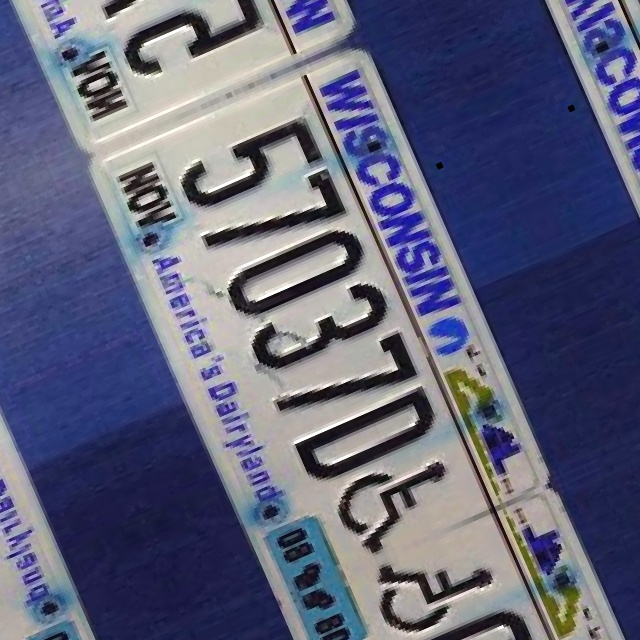ISA: (326, 443, 468, 561), (362, 526, 505, 640), (0, 635, 26, 640)
